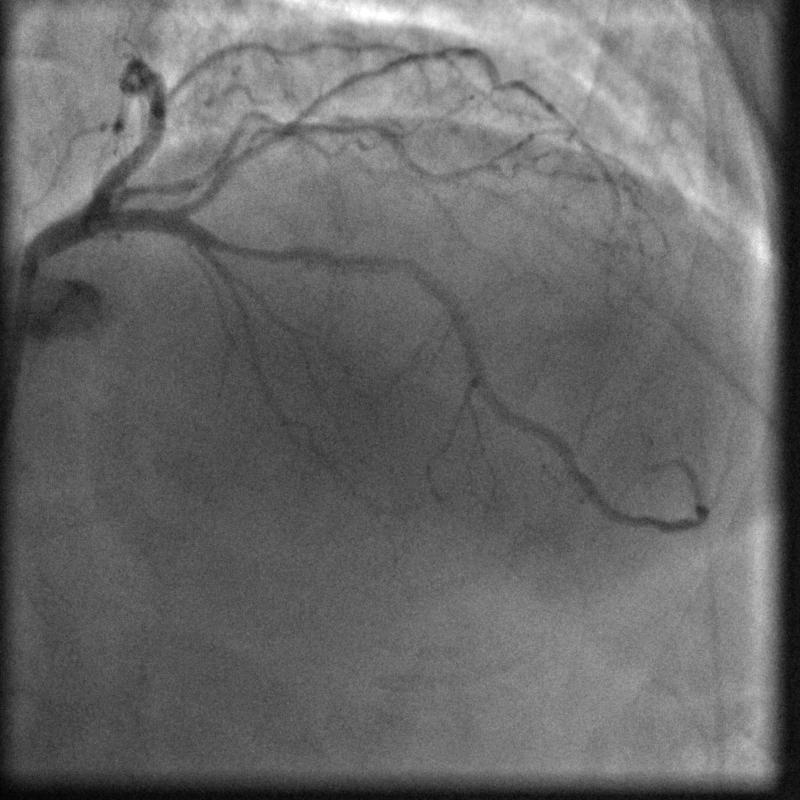Stenosis: (224, 230, 290, 271)
